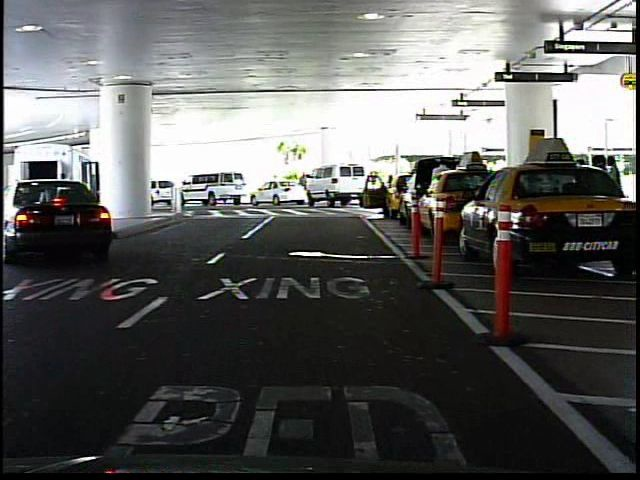person: (428, 156, 455, 227), (268, 172, 284, 202), (297, 170, 311, 202)
